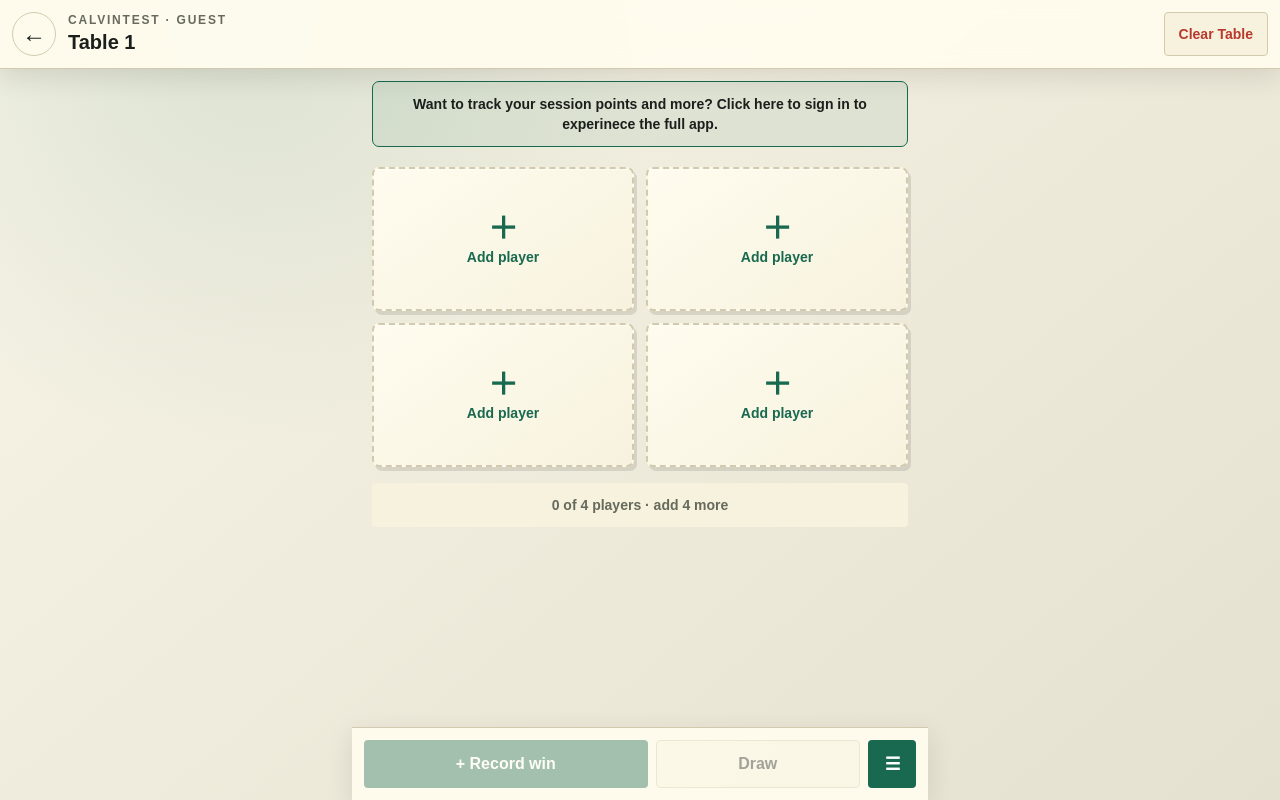
Test case: guest focused table cross-table seat › opens a login-required popup when seating a player from another table
Click the 1st button "＋ Add player" at (503, 239), box [372,167,634,311]
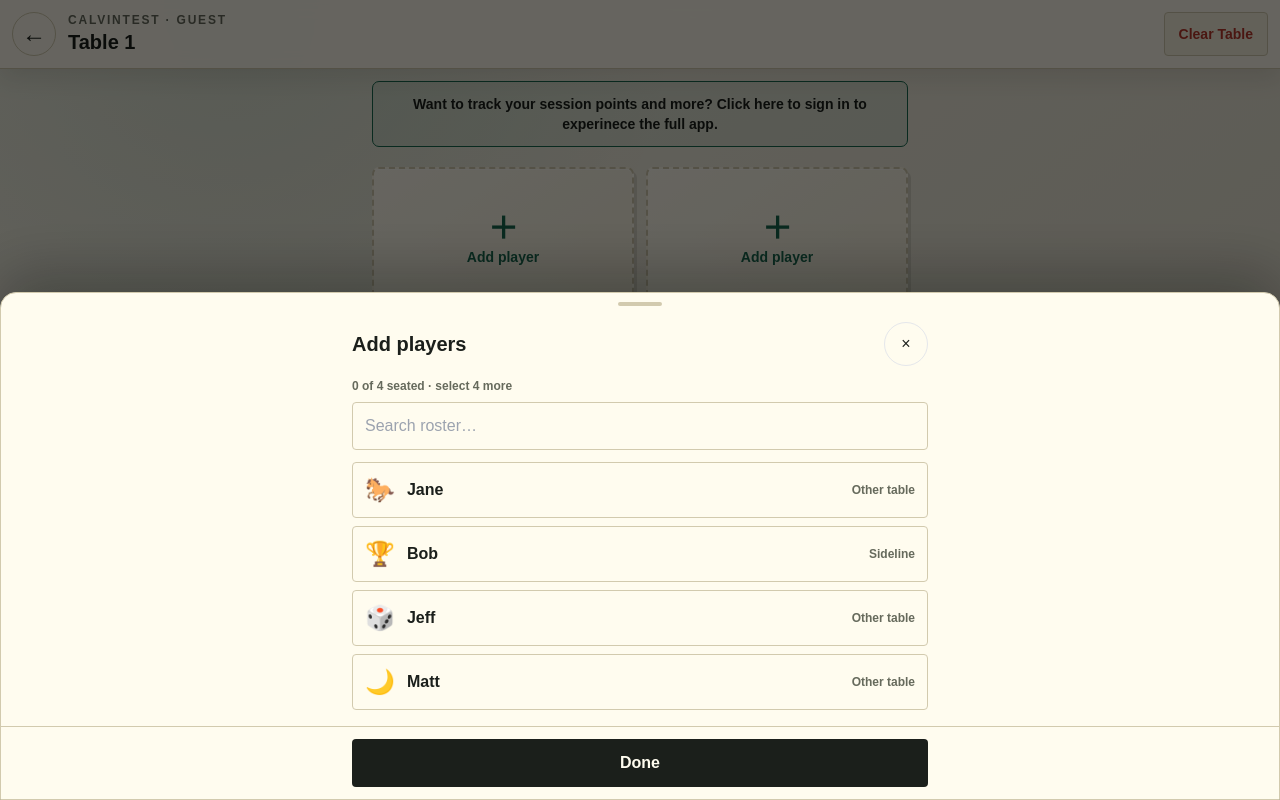
Click the button "🐎 Jane Other table" at (425, 490), box [352,462,928,518]
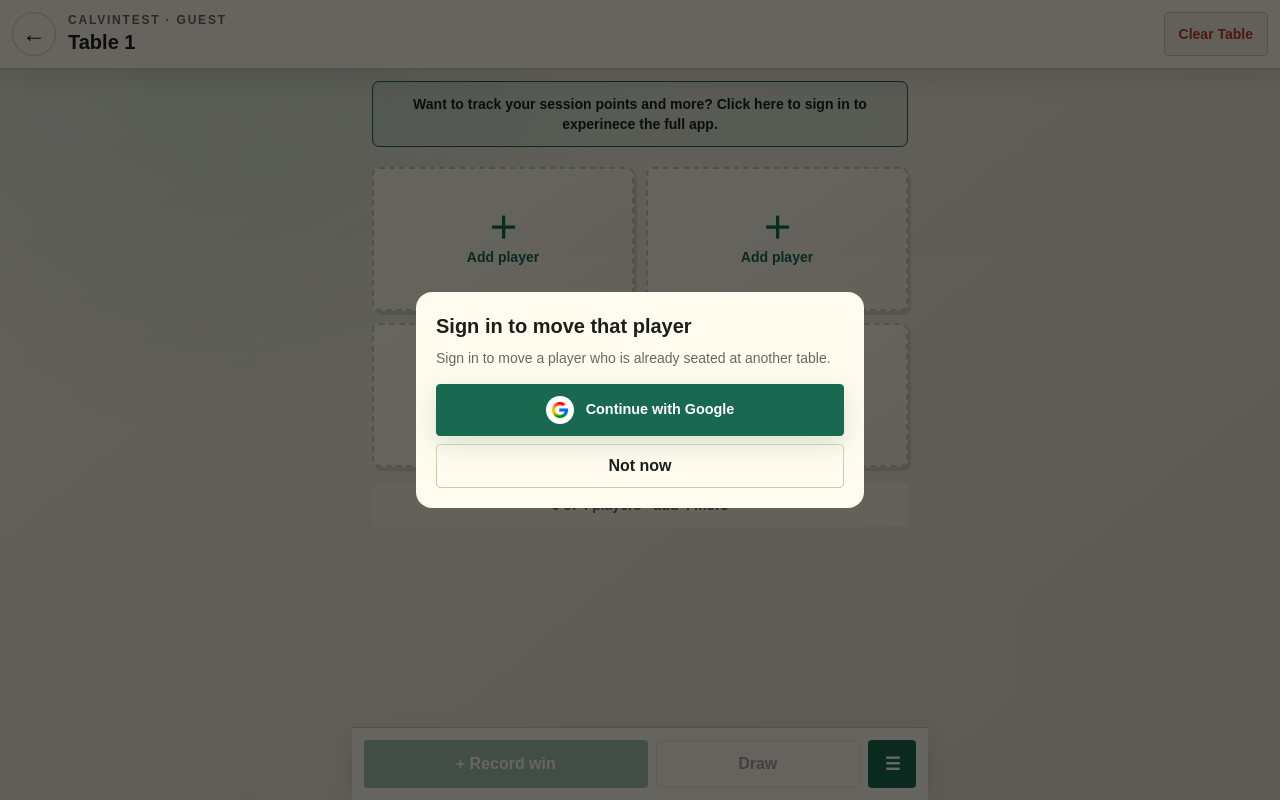
Result: the dialog "Sign in to move that player" is shown at [416,292,864,508]
Result: the text "Sign in to move a player who is already seated at another table." is shown at [436,348,844,368]
